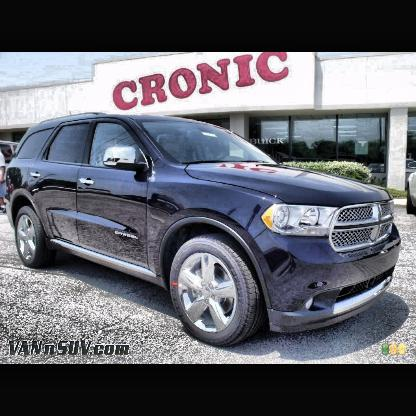Dodge Durango SUV 2012: (4, 111, 404, 350)
